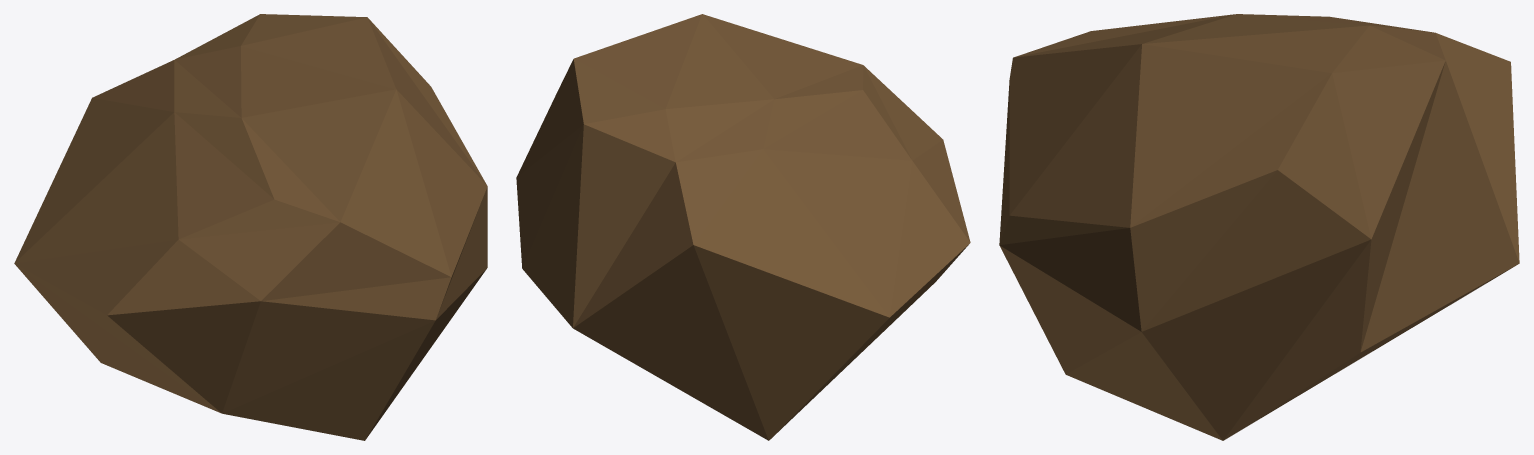
File: rock05.fbx
The picture shows the model from 3 angles, left to right: view 1: azimuth 30°, elevation 25°; view 2: azimuth 150°, elevation 25°; view 3: azimuth 270°, elevation 25°; orthographic projection. The views are drawn at different scales.
Parts seen in each view (by area): view 1: rock5; view 2: rock5; view 3: rock5.
Part boxes in pixels (x1,y1,x2,y2): rock5: [14, 14, 487, 440]; rock5: [516, 14, 970, 440]; rock5: [999, 14, 1519, 440].
Bounding box in the file's own units: 120 × 93.61 × 120.
